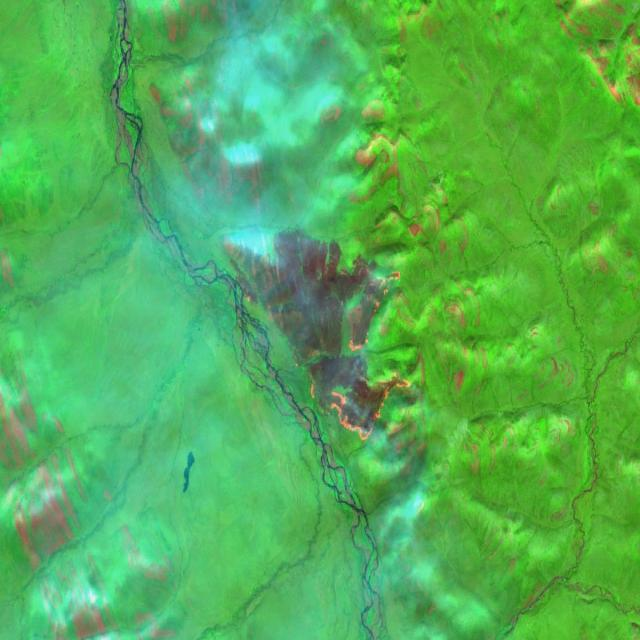fire: (308, 269, 420, 442)
